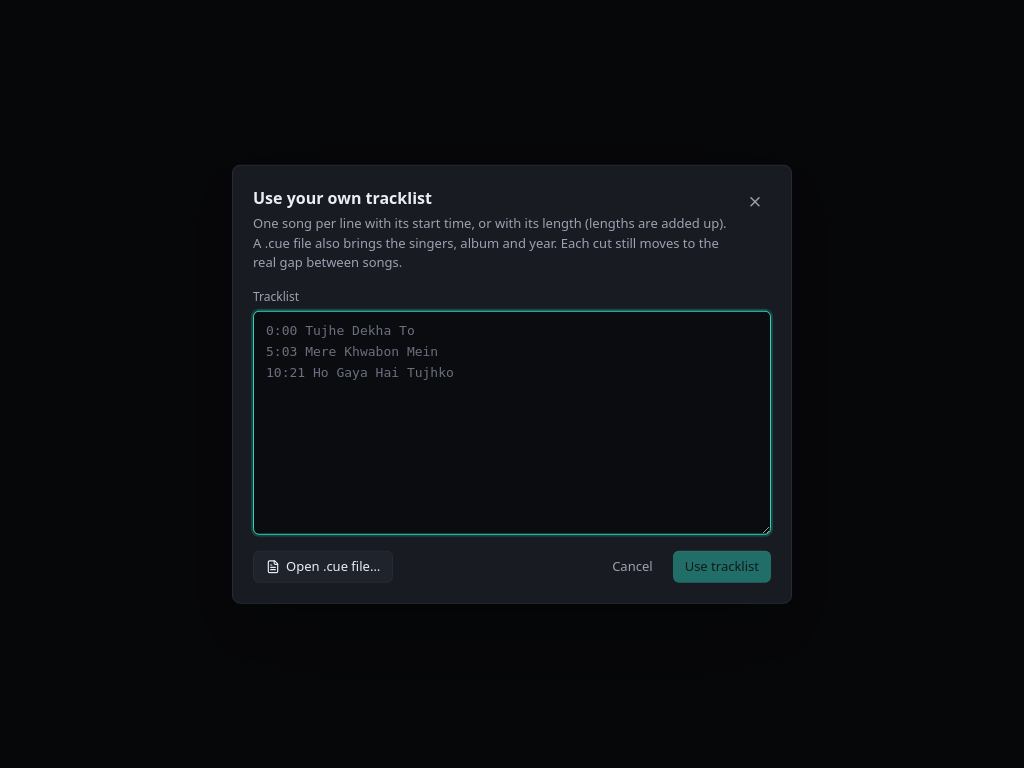
Test: TracklistDialog › stays open and shows why a tracklist was rejected
The image size is (1024, 768).
Replace the text in the text box labelled "Tracklist" with "hello" at (512, 422), box [253, 310, 771, 534]
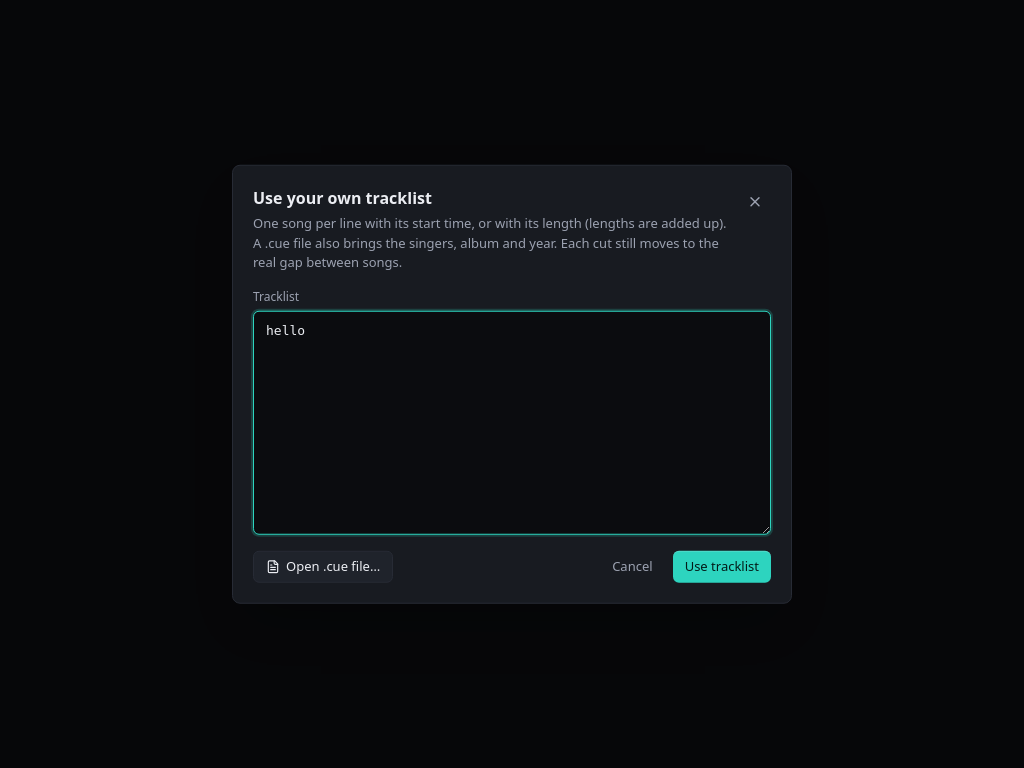
Click the button "Use tracklist" at (722, 566), box [673, 550, 771, 582]
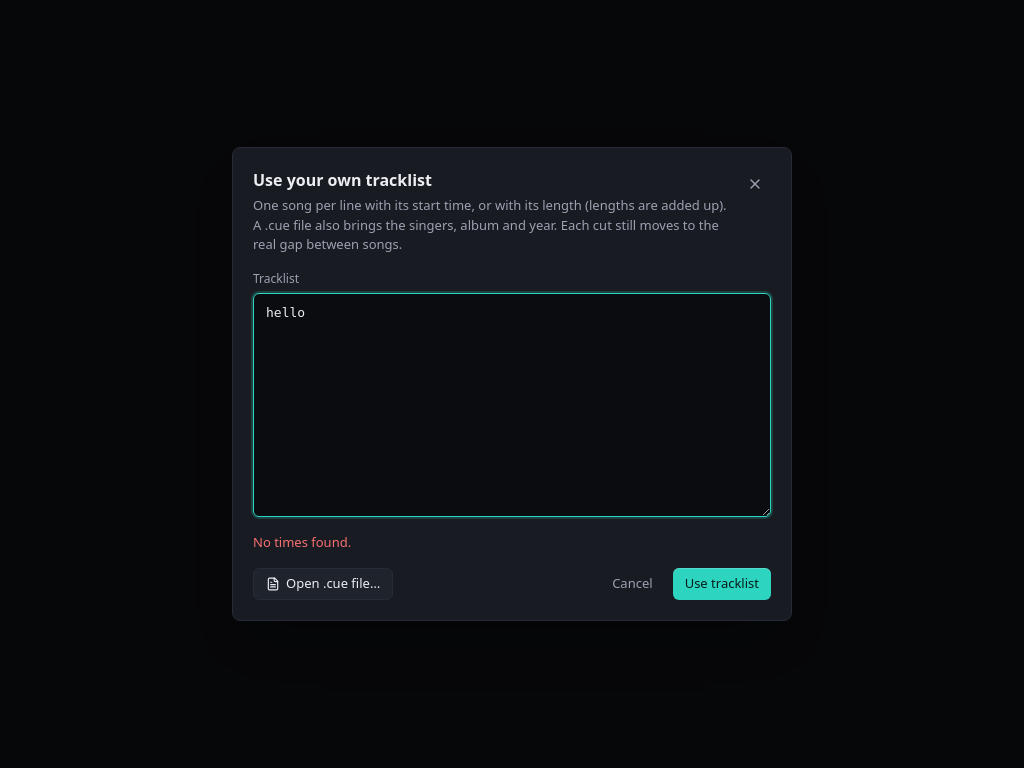
Now the message reads "No times found.", box [253, 532, 351, 550]
